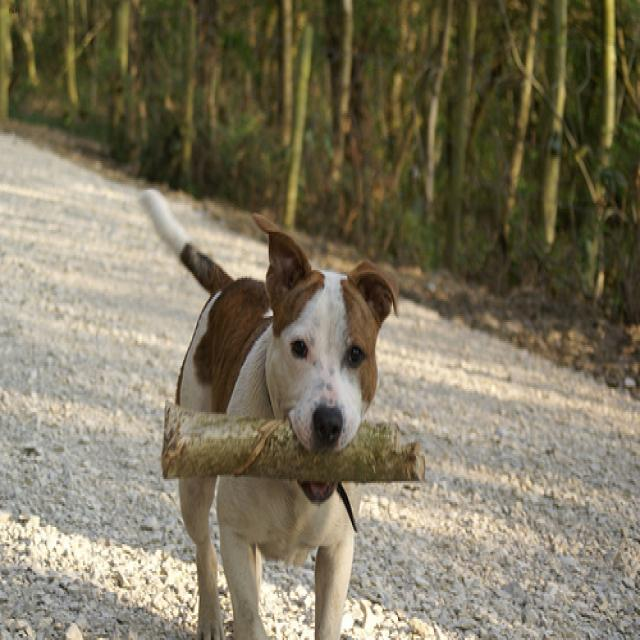dog-staffordshire_bull_terrier: (129, 182, 403, 458)
